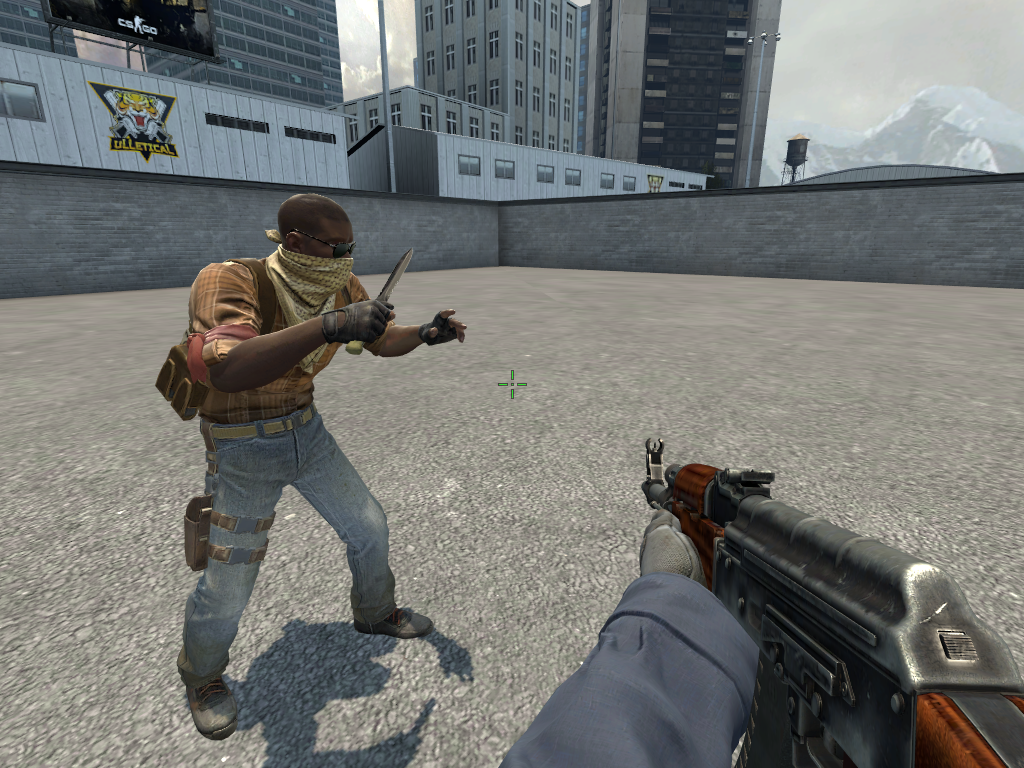tr head: (273, 192, 357, 296)
